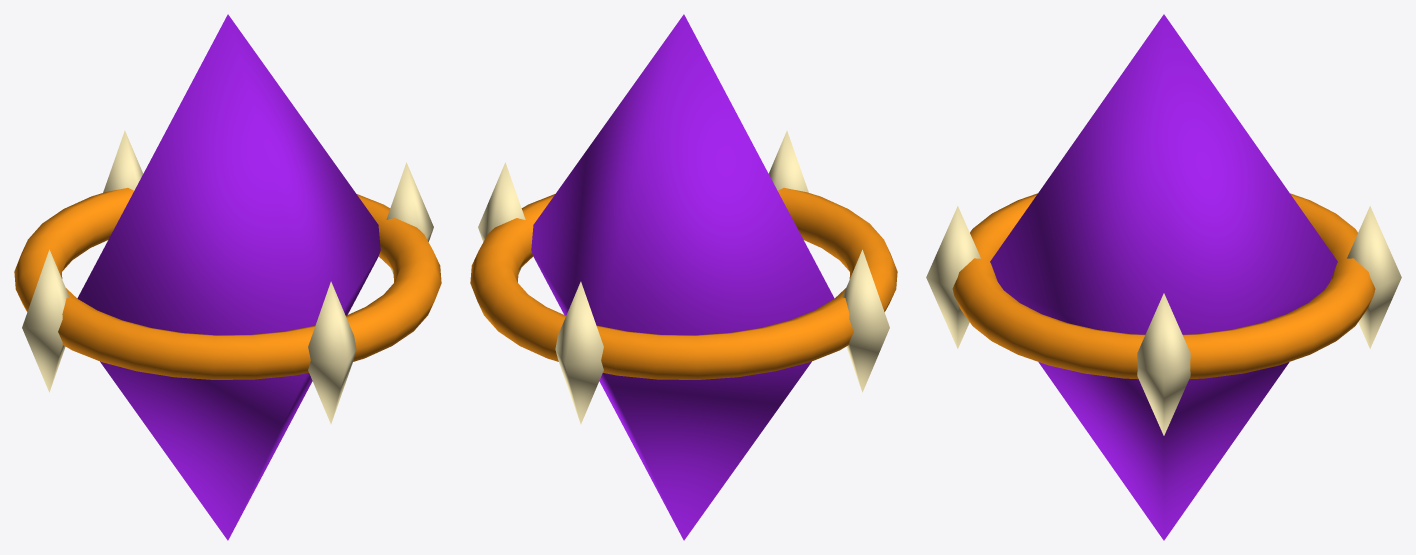
The model's file is false_king_seal_core.obj.
3 renders of one model, left to right at view 1: azimuth 30°, elevation 25°; view 2: azimuth 150°, elevation 25°; view 3: azimuth 270°, elevation 25°, orthographic.
Visible parts, largest first — view 1: false_king_seal_core; view 2: false_king_seal_core; view 3: false_king_seal_core.
Part boxes in pixels (x1,y1,x2,y2): false_king_seal_core: (14, 14, 441, 540); false_king_seal_core: (470, 14, 897, 540); false_king_seal_core: (926, 14, 1401, 540).
Size of the model in its own units: 1.8 by 2.2 by 1.8.
